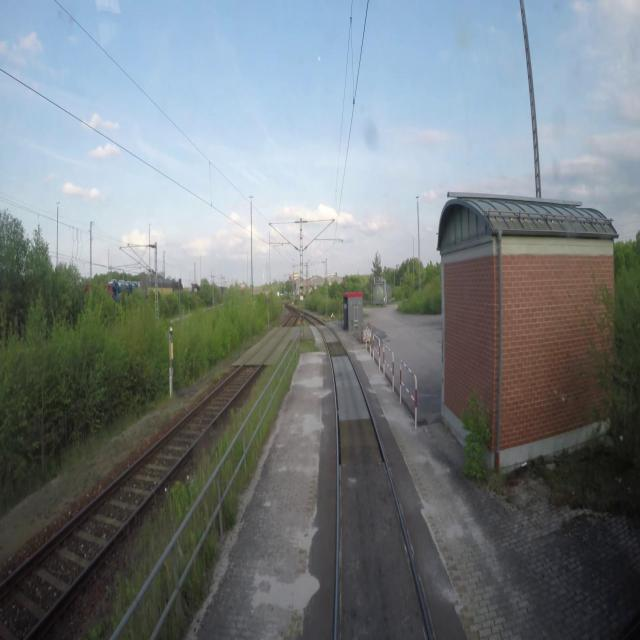rail-track: (0, 313, 296, 639), (311, 318, 428, 639)
